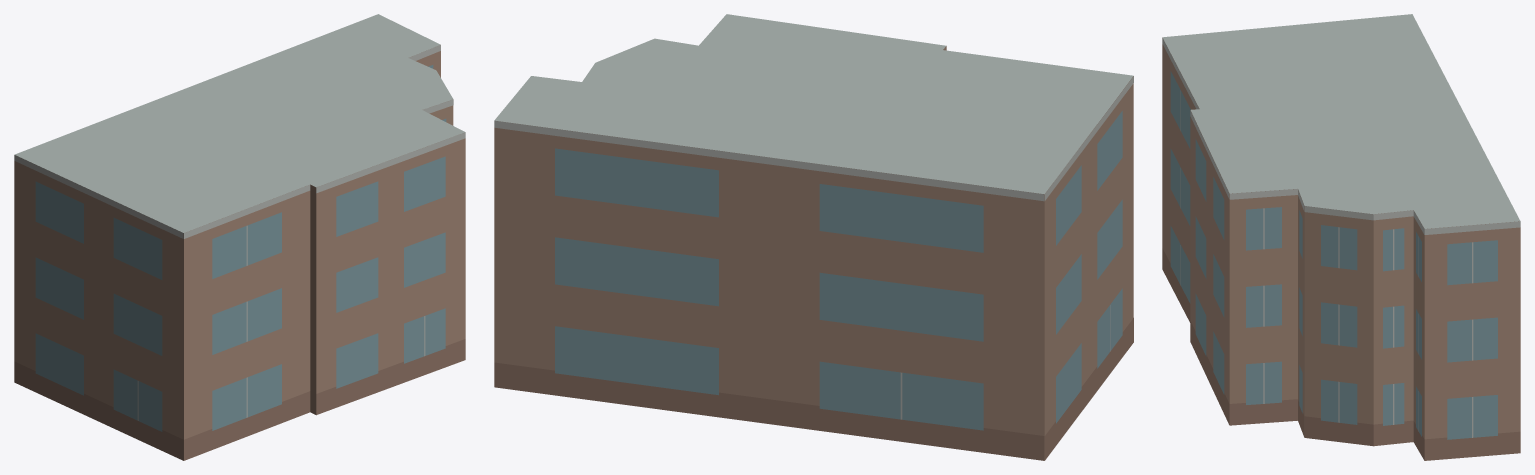
Rendered from survey-upis-32792544.glb.
The picture shows the model from 3 angles, left to right: view 1: azimuth 30°, elevation 25°; view 2: azimuth 150°, elevation 25°; view 3: azimuth 270°, elevation 25°; orthographic projection. The views are drawn at different scales.
Visible parts, largest first — view 1: survey-upis-32792544.tmp; view 2: survey-upis-32792544.tmp; view 3: survey-upis-32792544.tmp.
Part boxes in pixels (bbox=[...]): survey-upis-32792544.tmp: bbox=[14, 14, 465, 460]; survey-upis-32792544.tmp: bbox=[494, 14, 1133, 460]; survey-upis-32792544.tmp: bbox=[1162, 14, 1520, 460].
Size of the model in its own units: 18.2 by 9.15 by 12.82.
